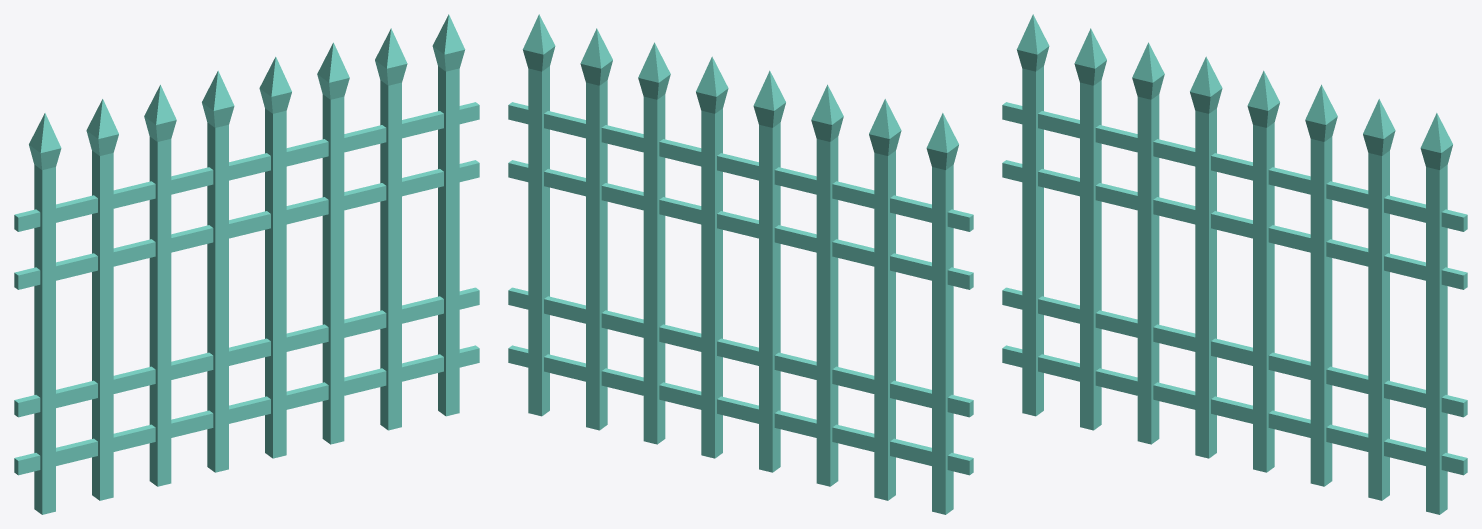
Rendered from ironFence.glb.
3 renders of one model, left to right at view 1: azimuth 30°, elevation 25°; view 2: azimuth 150°, elevation 25°; view 3: azimuth 330°, elevation 25°, orthographic.
Visible parts, largest first — view 1: ironFence; view 2: ironFence; view 3: ironFence.
Part boxes in pixels (x1=…): ironFence: x1=14, y1=14, x2=479, y2=514; ironFence: x1=508, y1=14, x2=973, y2=514; ironFence: x1=1002, y1=14, x2=1467, y2=514.
Bounding box in the file's own units: 1 × 0.8239 × 0.045.
